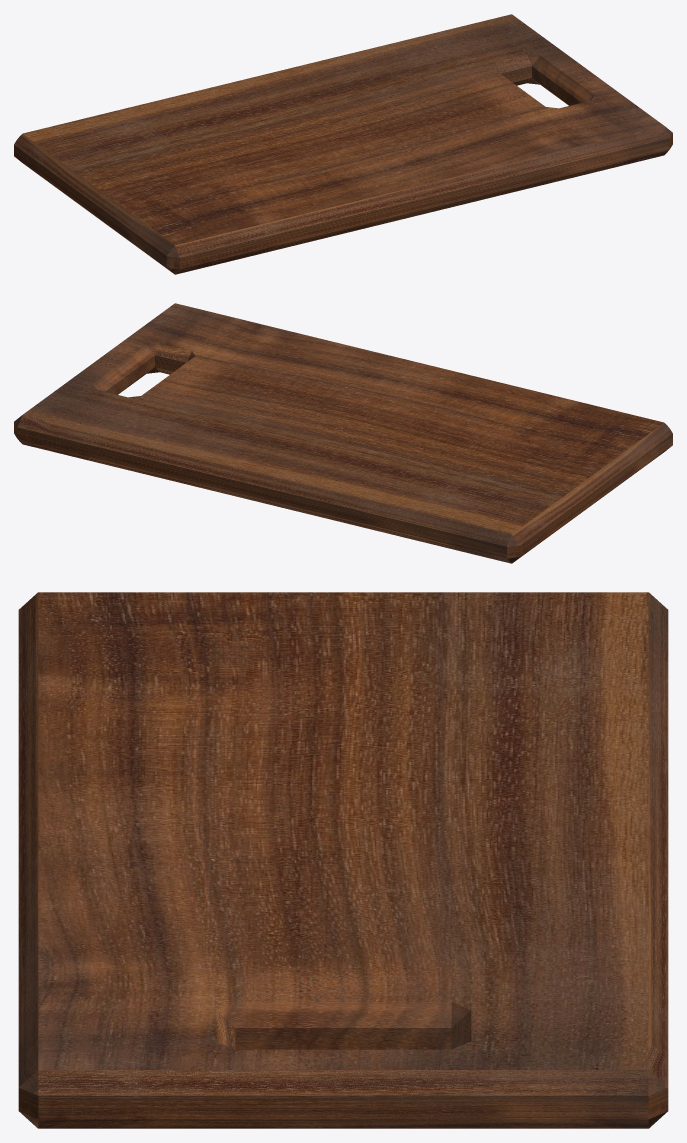
The model's file is CuttingBoard.fbx.
3 views of the same model, one above another, from view 1: azimuth 30°, elevation 25°; view 2: azimuth 150°, elevation 25°; view 3: azimuth 270°, elevation 25° (orthographic). The views are drawn at different scales.
Parts seen in each view (by area): view 1: CuttingBoard; view 2: CuttingBoard; view 3: CuttingBoard.
Part boxes in pixels (x1,y1,x2,y2): CuttingBoard: (14,14,672,274); CuttingBoard: (14,303,672,563); CuttingBoard: (18,592,668,1128).
Size of the model in its own units: 18 by 1 by 10.
Materials: 1 (1 with a texture image).
